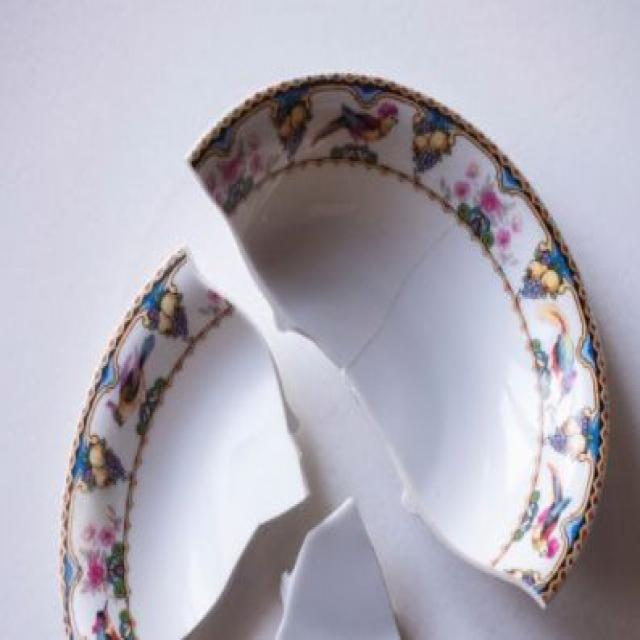electronic: (59, 73, 614, 640)
